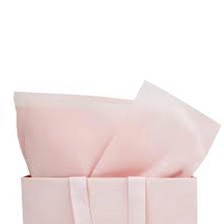book: (16, 169, 204, 224)
tissue: (8, 74, 224, 182)
